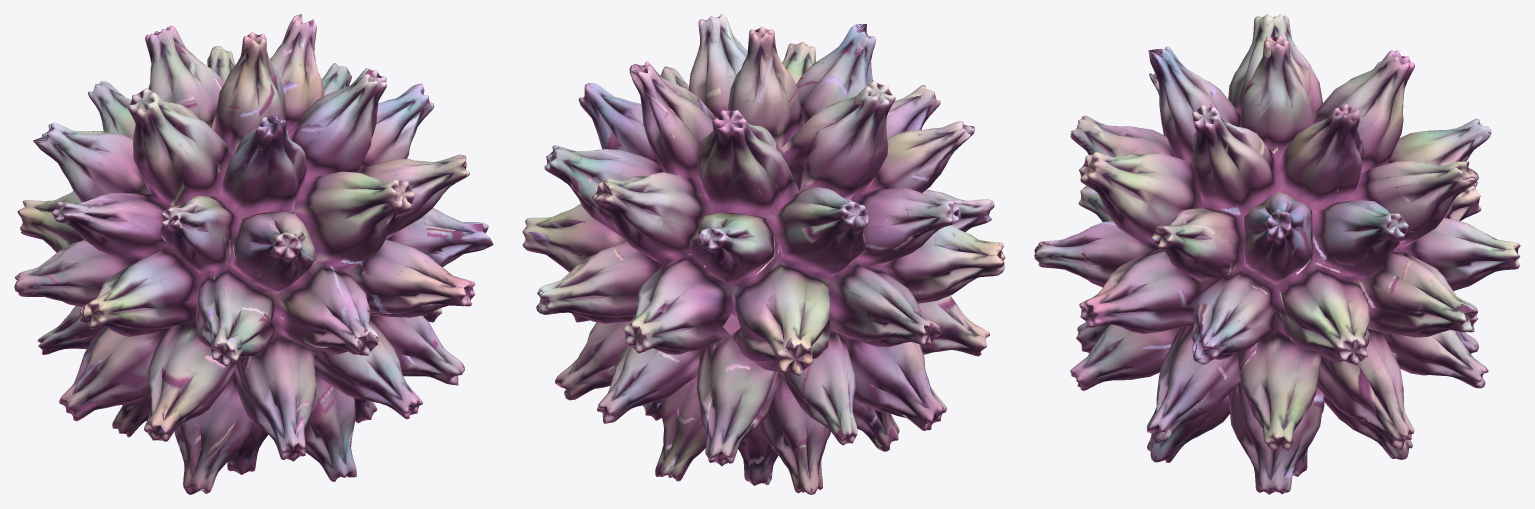
File: alien2.glb
The picture shows the model from 3 angles, left to right: view 1: azimuth 30°, elevation 25°; view 2: azimuth 150°, elevation 25°; view 3: azimuth 270°, elevation 25°; orthographic projection.
Visible parts, largest first — view 1: Alpha_0000_0; view 2: Alpha_0000_0; view 3: Alpha_0000_0.
Part boxes in pixels (x1,y1,x2,y2): Alpha_0000_0: (14,14,493,494); Alpha_0000_0: (522,14,1005,494); Alpha_0000_0: (1034,14,1520,494).
Bounding box in the file's own units: 6.81 × 7.02 × 7.07.
Materials: 1 (1 with a texture image).
